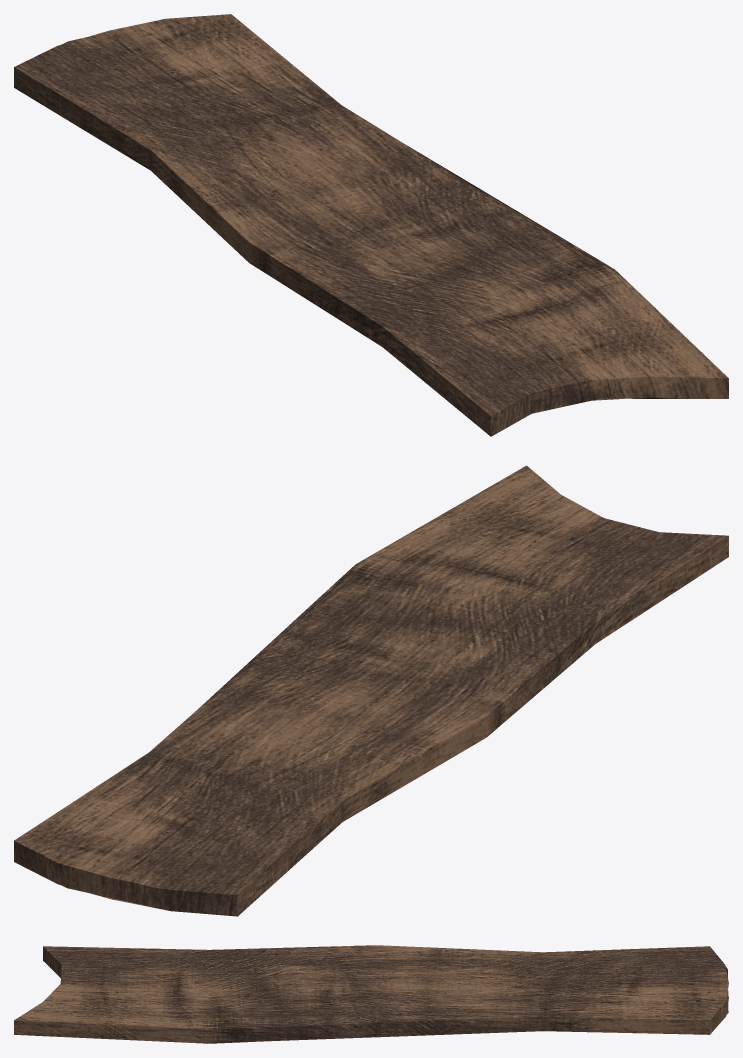
Rendered from doska.glb.
3 views of the same model, one above another, from view 1: azimuth 30°, elevation 25°; view 2: azimuth 150°, elevation 25°; view 3: azimuth 270°, elevation 25° (orthographic). The views are drawn at different scales.
Parts seen in each view (by area): view 1: Plank2_Plank_0; view 2: Plank2_Plank_0; view 3: Plank2_Plank_0.
Part boxes in pixels (<box>): Plank2_Plank_0: <box>14,14,728,436</box>; Plank2_Plank_0: <box>14,465,728,916</box>; Plank2_Plank_0: <box>14,945,728,1043</box>.
Bounding box in the file's own units: 0.3452 × 0.0277 × 1.24.
1 material, 1 textured.
